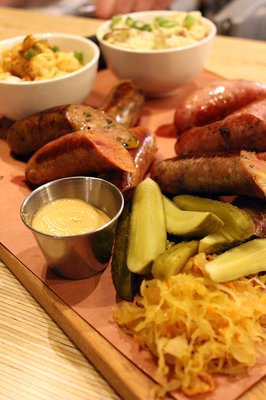sushi: (96, 11, 218, 98), (0, 32, 100, 122)
